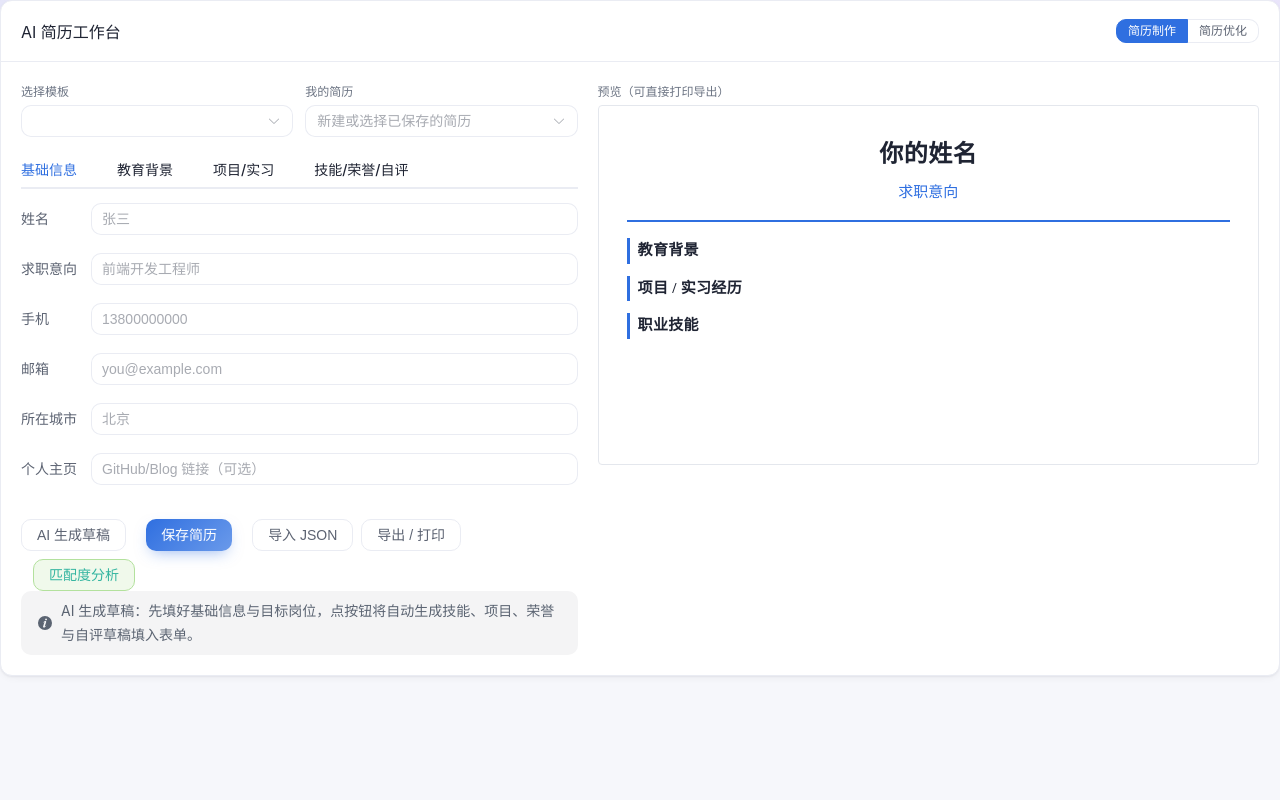
简历工作台 › 教育背景可动态添加经历条目
Click the tab "教育背景" at coordinates (145, 170), box [117,161,173,178]
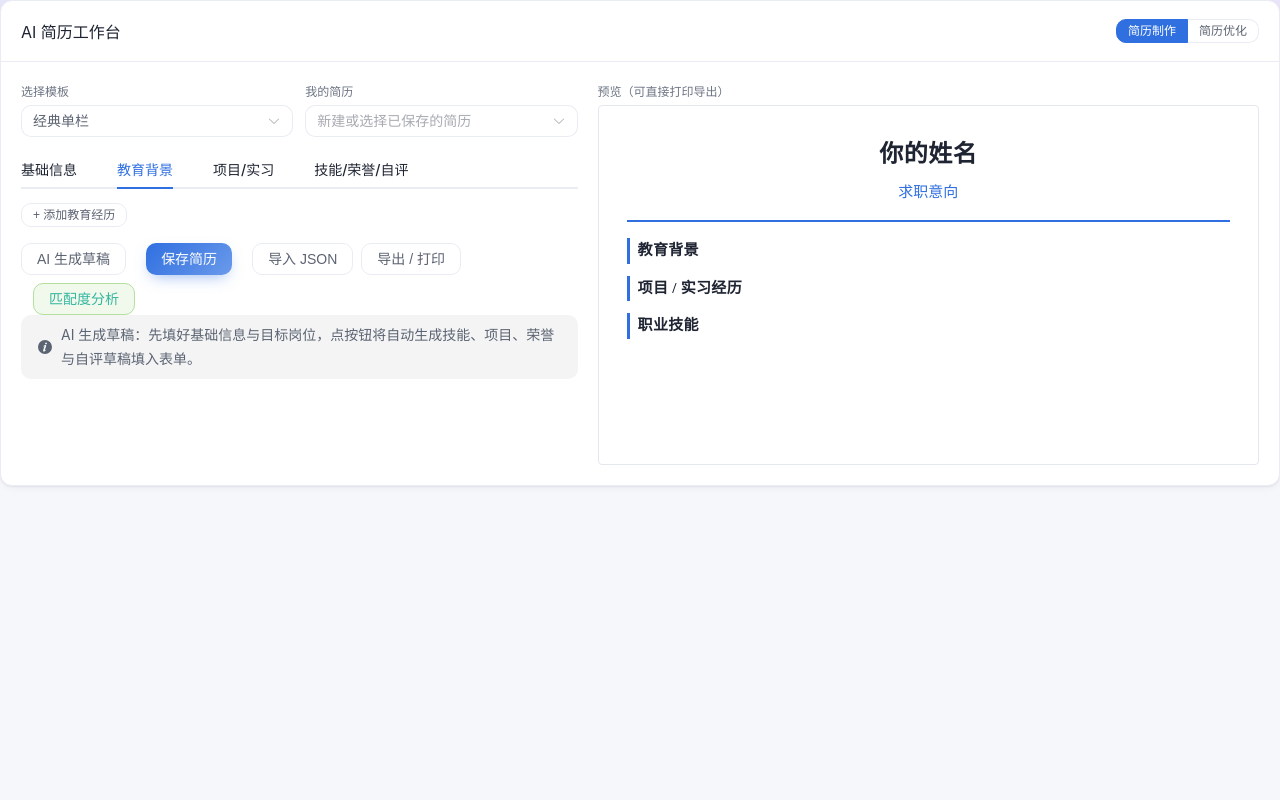
Click the button "+ 添加教育经历" at coordinates (74, 215), box [21,203,127,227]
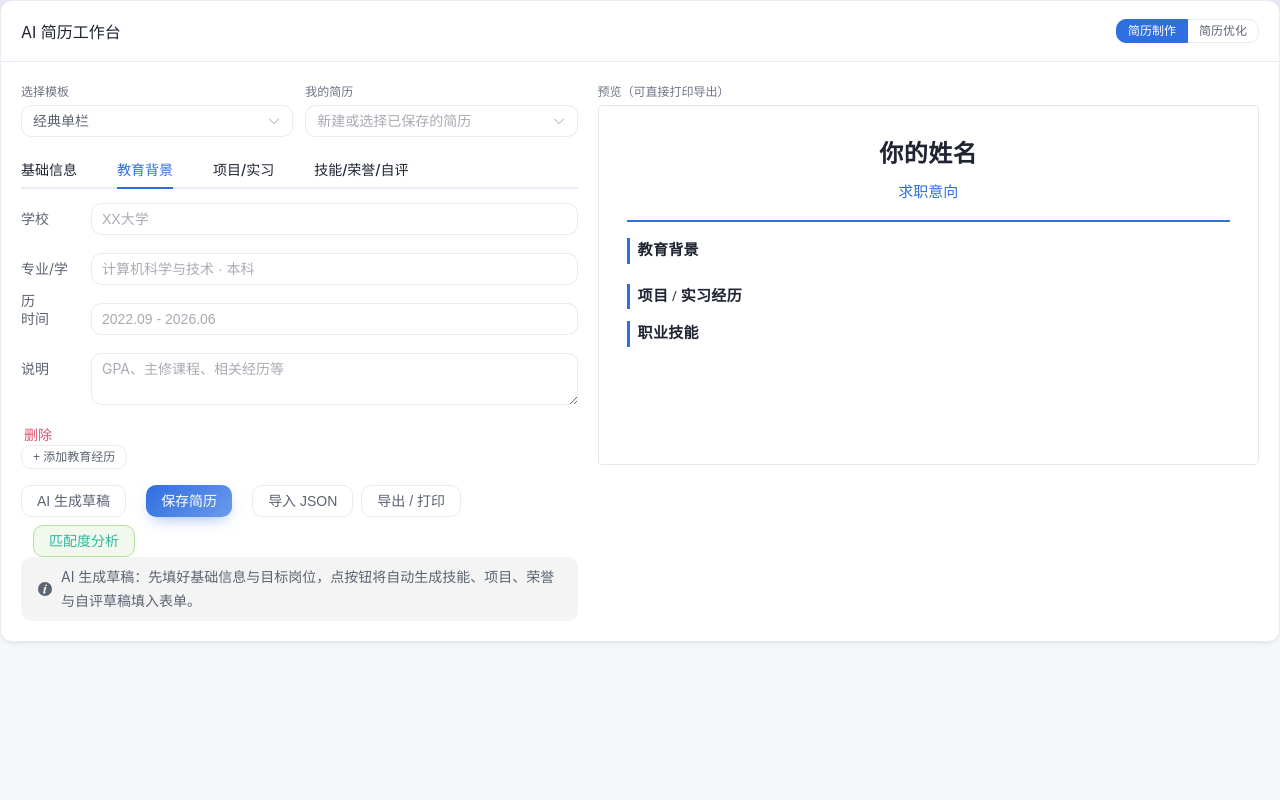
Now the number of elements with class "list-item" is 1, box [21,203,578,445]
